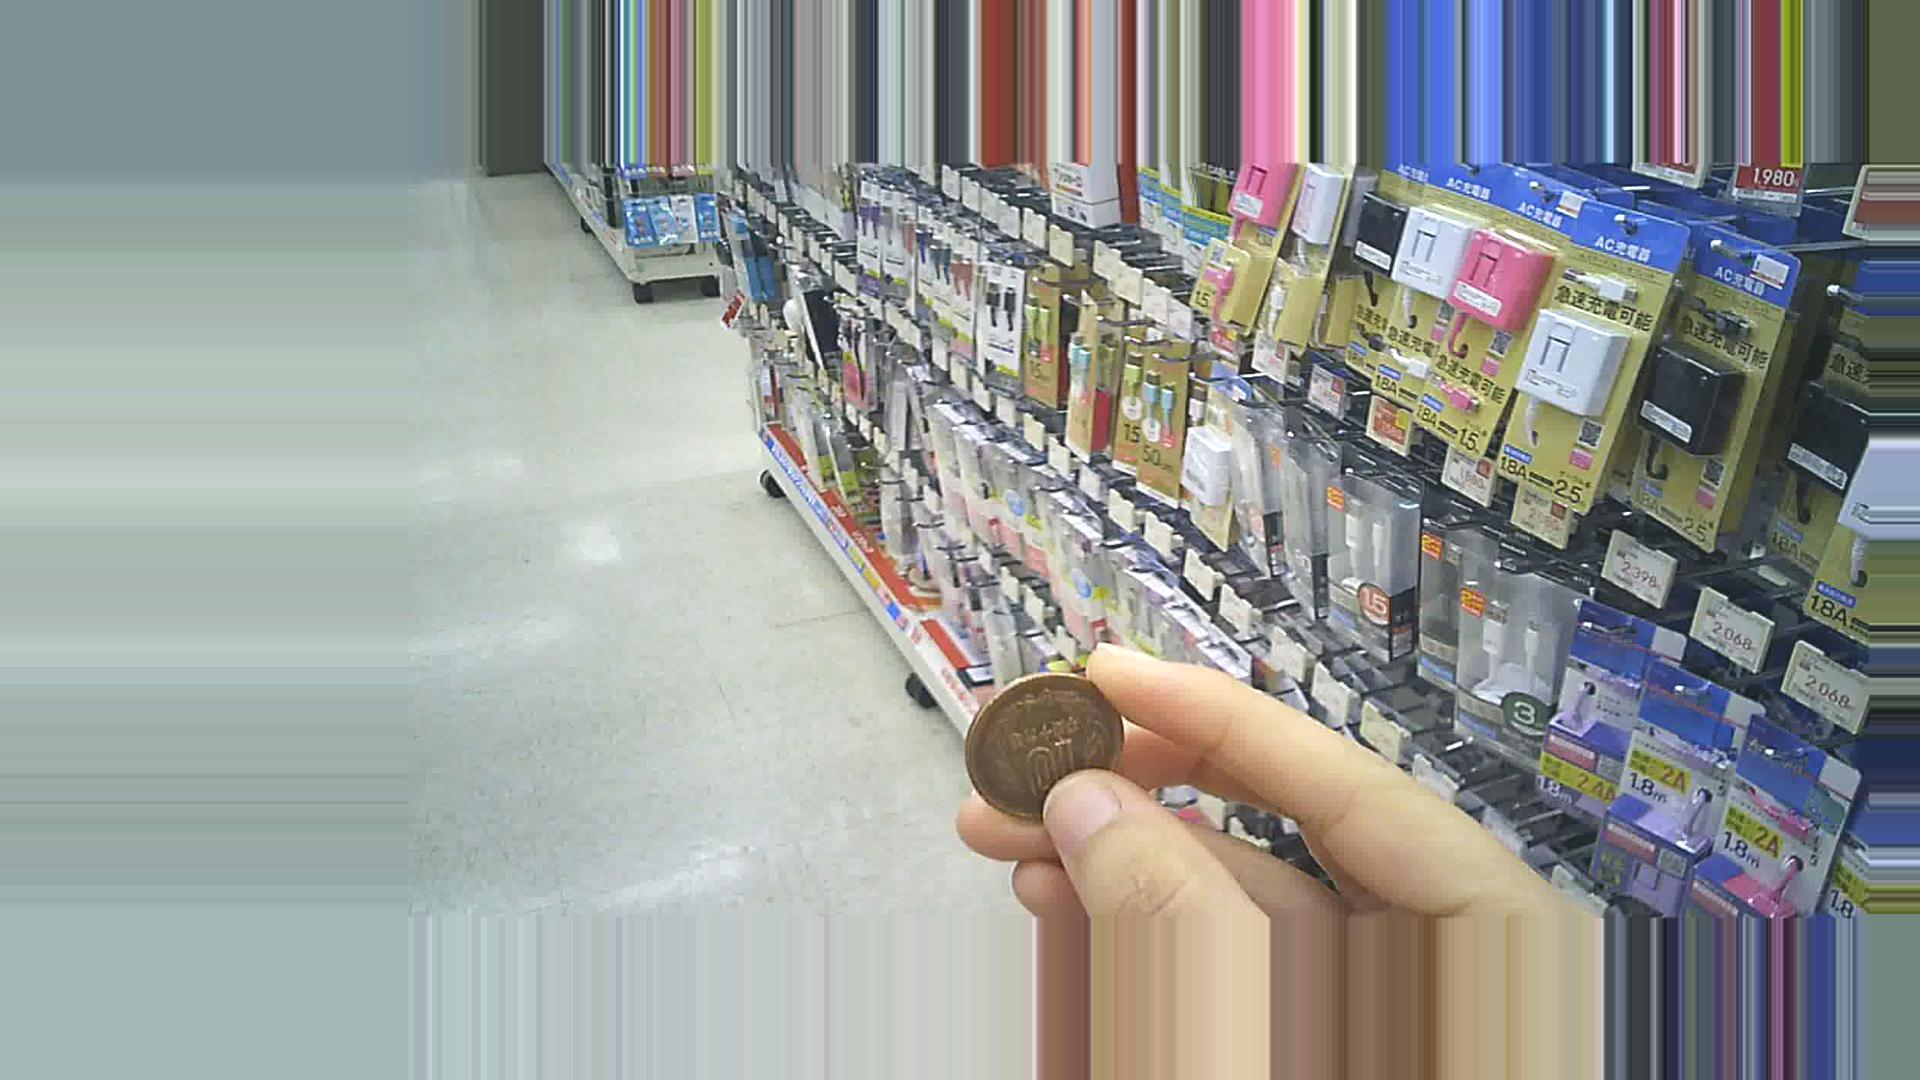10 Yen: (965, 662, 1125, 810)
